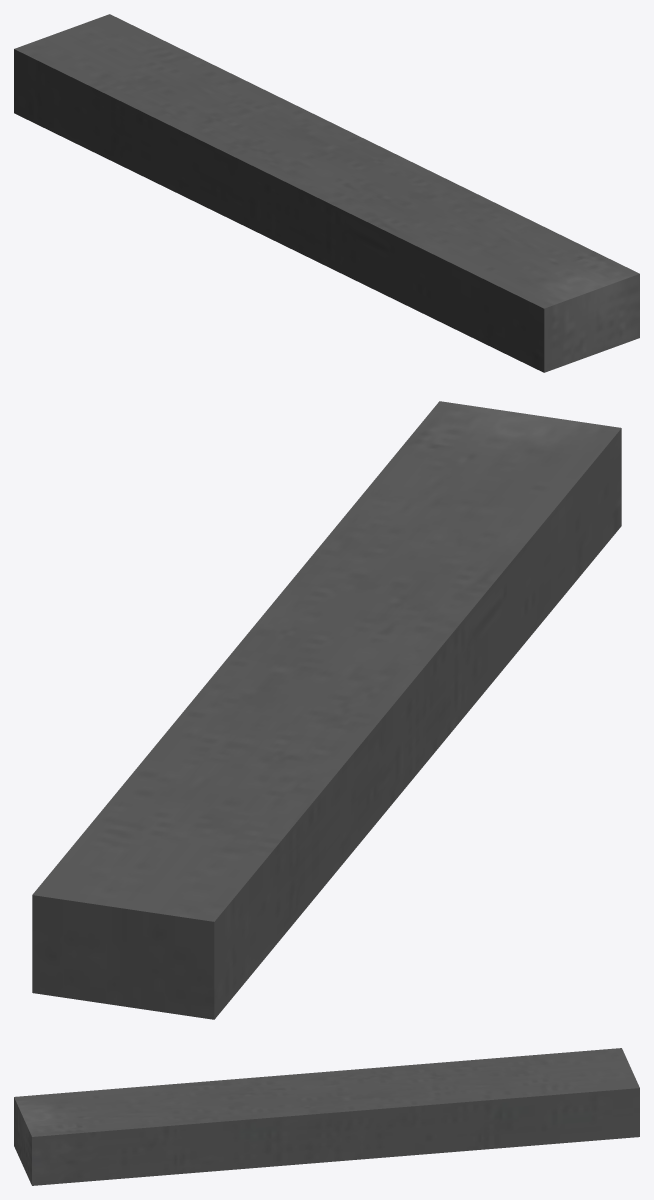
The model's file is frame__seat_upright_0.glb.
3 renders of one model, top to bottom at view 1: azimuth 30°, elevation 25°; view 2: azimuth 150°, elevation 25°; view 3: azimuth 270°, elevation 25°, orthographic. The views are drawn at different scales.
Parts seen in each view (by area): view 1: world; view 2: world; view 3: world.
Boxes of the visible parts, x1,y1,x2,y2 form: world: (14, 14, 639, 372); world: (32, 401, 621, 1019); world: (14, 1048, 639, 1185).
Bounding box in the file's own units: 0.1091 × 0.028 × 0.3244.
Materials: 1 (1 with a texture image).
